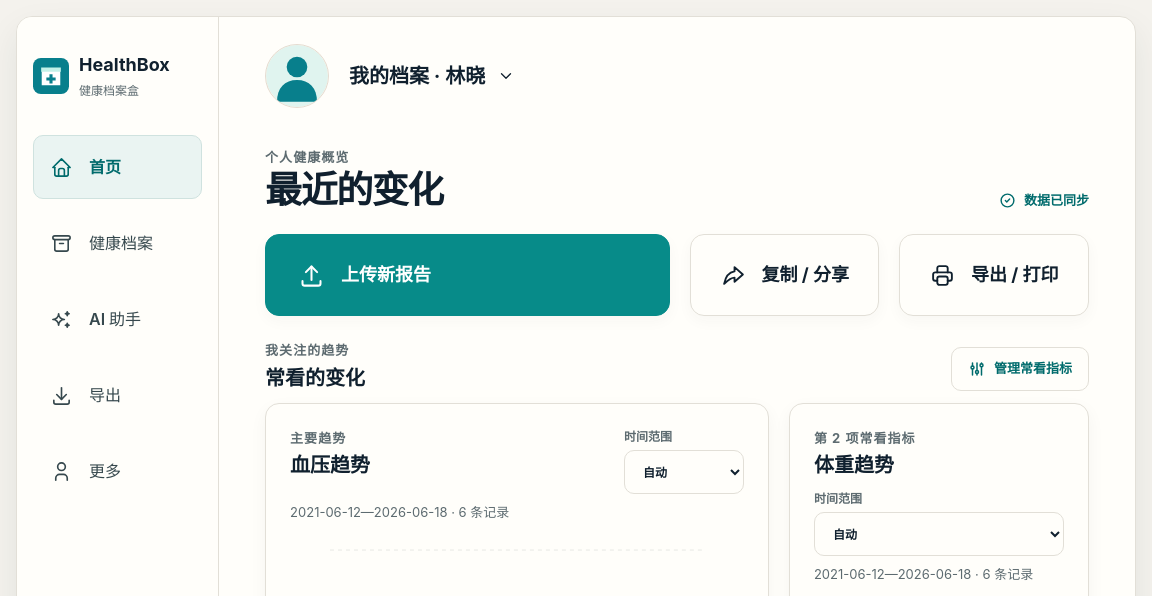
it: HouseholdHealthPrototype › supports the primary desktop navigation and merged health archive
Expected: the heading "最近的变化" is shown, [265,169,443,210]
Click the button "健康档案": x=118, y=243 [33,211,202,275]
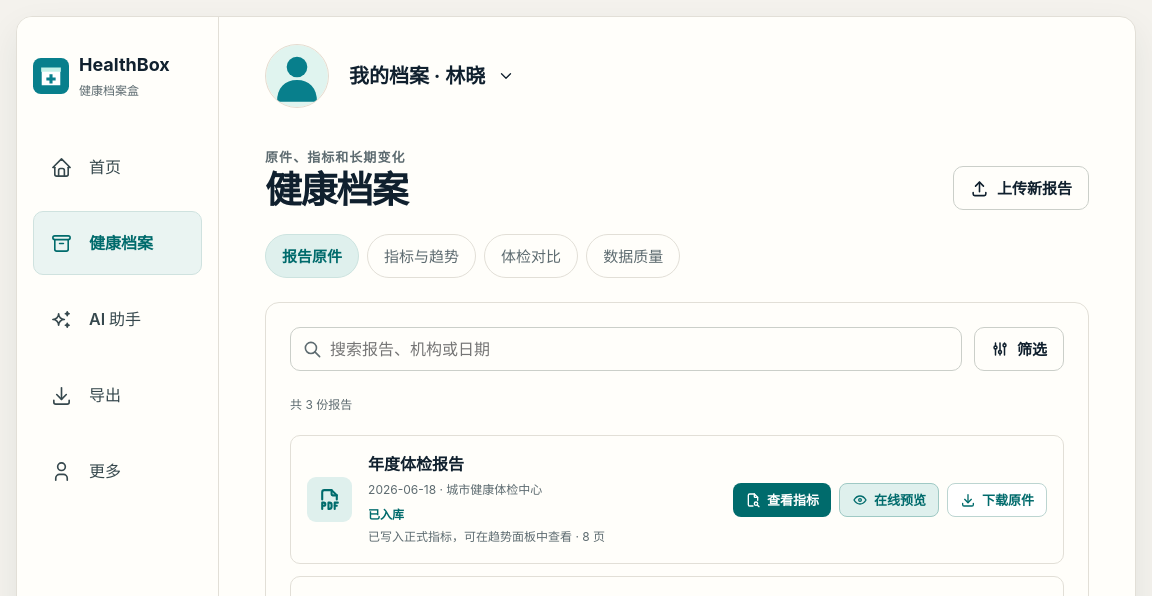
Expected: the heading "健康档案" is shown, [265,169,407,210]
Expected: the tab "报告原件" is shown, [265,234,359,278]
Expected: the tab "指标与趋势" is shown, [367,234,476,278]
